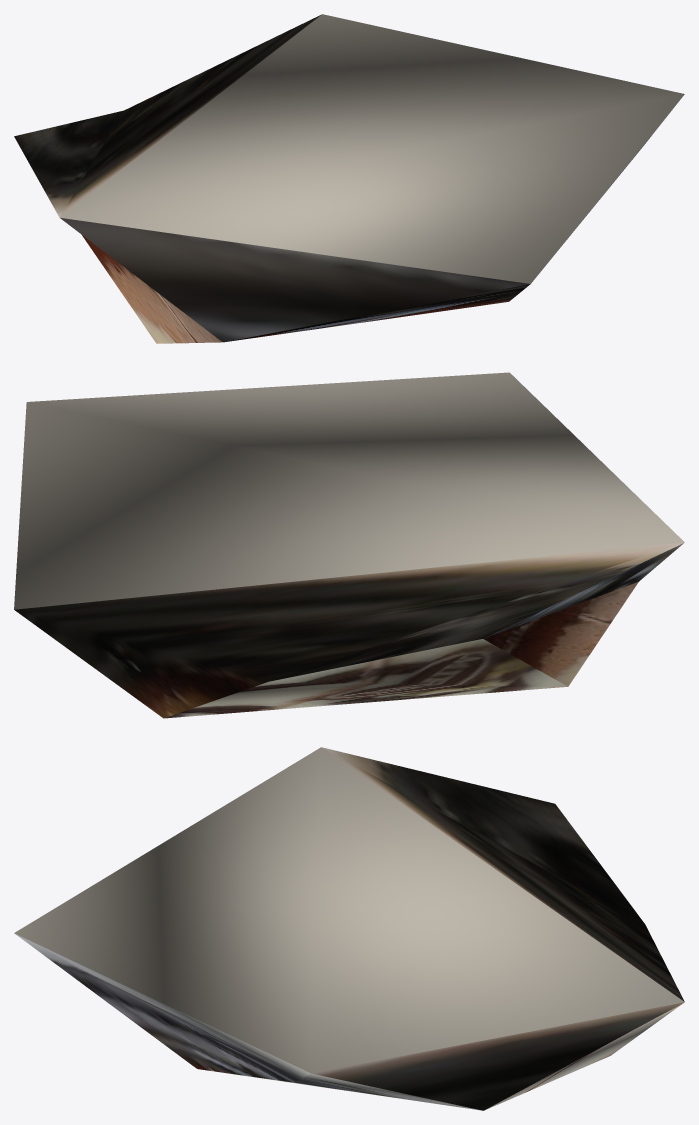
Rendered from cake_20.obj.
3 views of the same model, one above another, from view 1: azimuth 30°, elevation 25°; view 2: azimuth 150°, elevation 25°; view 3: azimuth 270°, elevation 25° (orthographic). The views are drawn at different scales.
Bounding box in the file's own units: 0.1673 × 0.0401 × 0.1569.
Materials: 1 (1 with a texture image).
